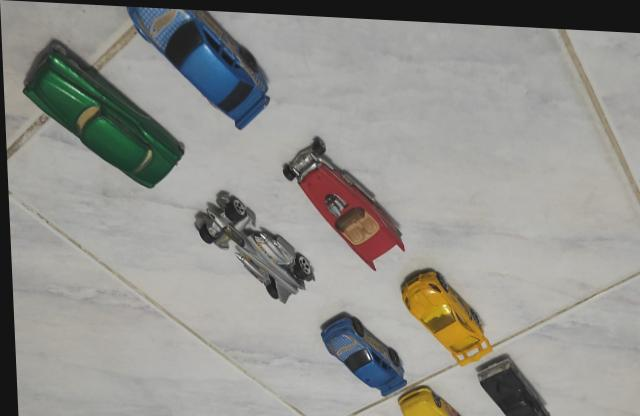01_FORD: (472, 351, 550, 416)
02_OZSOME: (394, 382, 462, 416)
03_V8: (280, 131, 405, 270)
04_MERZEDES: (126, 5, 270, 127), (316, 306, 403, 390)
05_DC121: (192, 187, 313, 298)
06_MASERATI: (20, 37, 185, 186)
07_RHLTURBO: (397, 262, 490, 361)
